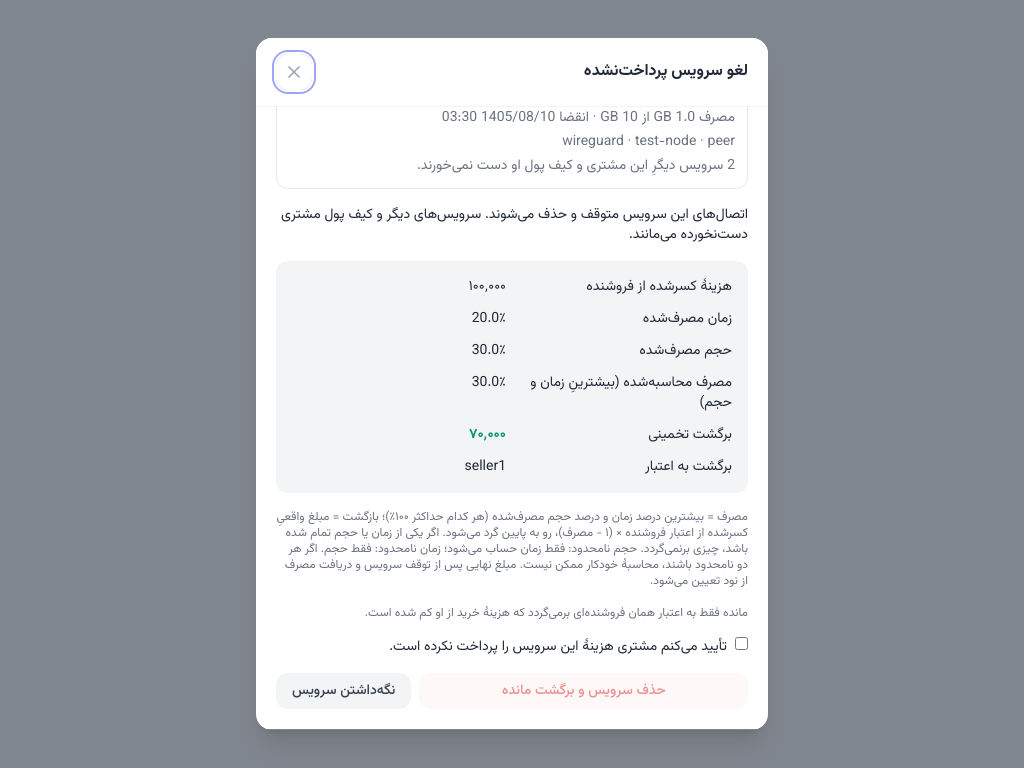
Test: unpaid cancellation dialog › an answer for a finished operation is matched by its service key, not a reused id
The image size is (1024, 768).
(page scrolled)
What coordinates should you click on to do the following:
click the checkbox labelled "تأیید می‌کنم مشتری هزینهٔ این سرویس را پرداخت نکرده است."
I would click on:
 (742, 644)
Its box is [735,637,748,650].
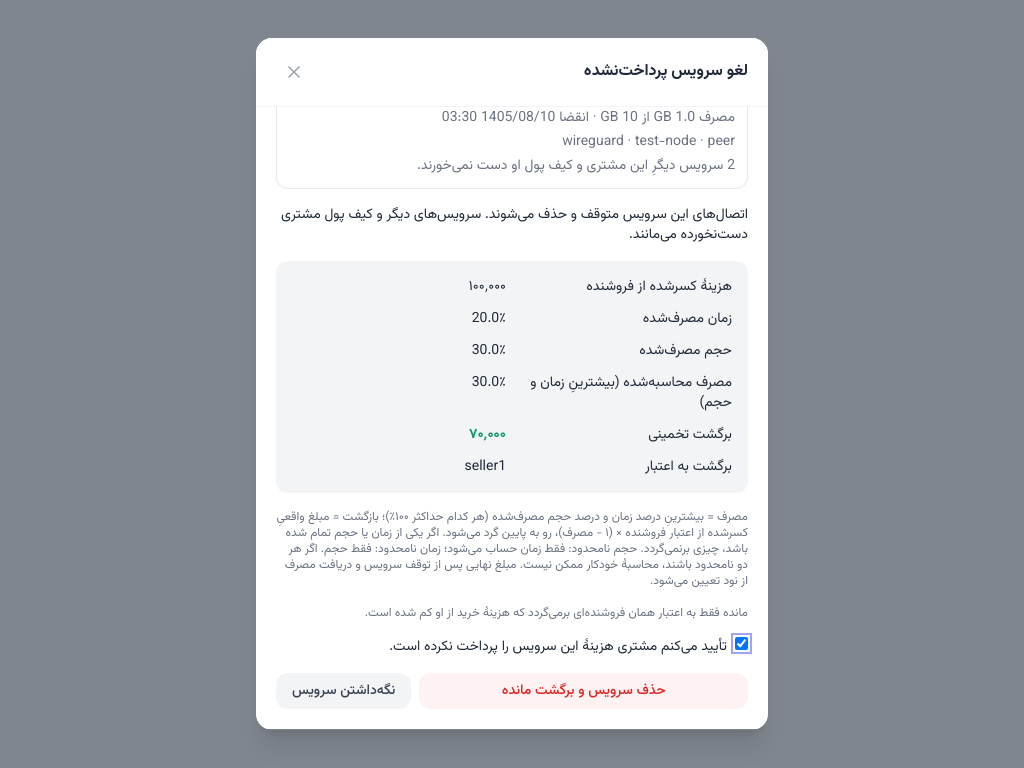
What coordinates should you click on to do the following:
click the button "حذف سرویس و برگشت مانده"
I would click on:
 (584, 691)
Its box is [419,673,748,709].
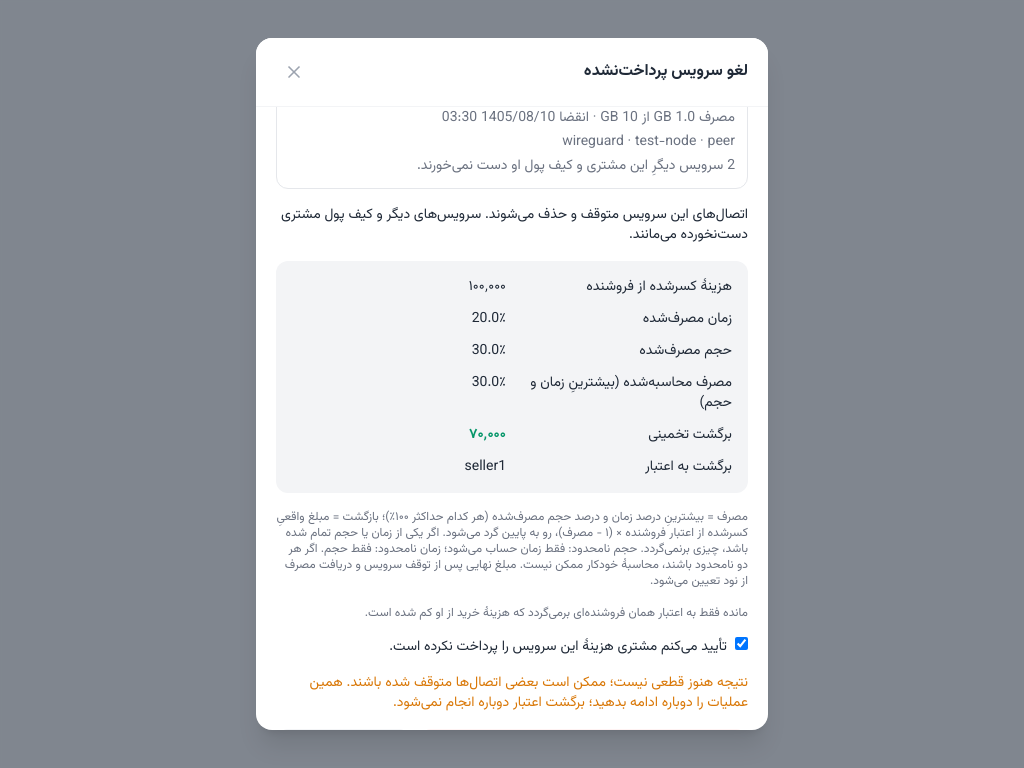
Expected: the text "نتیجه هنوز قطعی نیست" is shown, [309,672,748,714]
